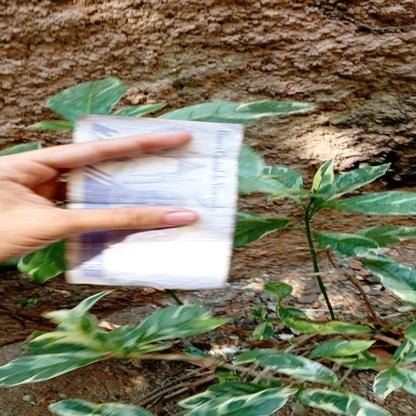ten-back-vef: (69, 108, 242, 290)
